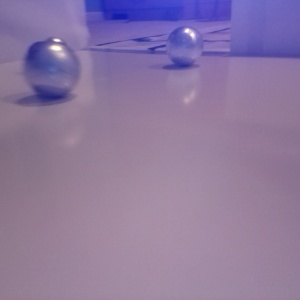alive_ball: (24, 37, 80, 97), (165, 25, 203, 65)
